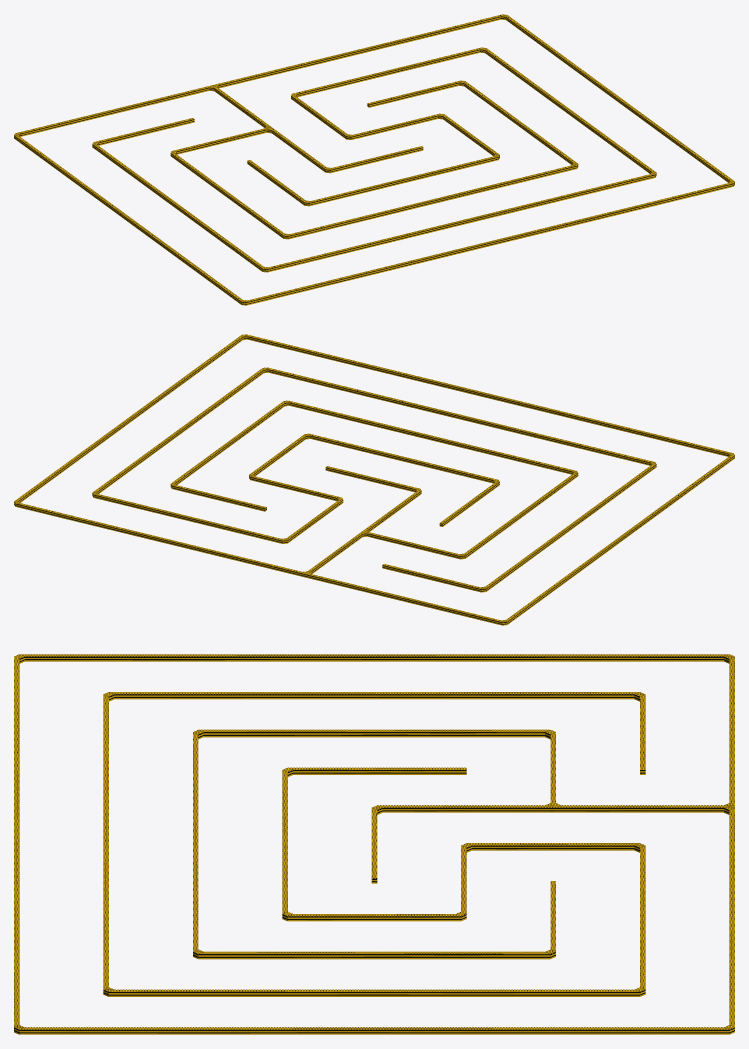
Rendered from Circle Track L.fbx.
3 views of the same model, one above another, from view 1: azimuth 30°, elevation 25°; view 2: azimuth 150°, elevation 25°; view 3: azimuth 270°, elevation 25° (orthographic). The views are drawn at different scales.
Parts seen in each view (by area): view 1: Circle_Track_L; view 2: Circle_Track_L; view 3: Circle_Track_L.
Boxes of the visible parts, x1,y1,x2,y2 form: Circle_Track_L: [14, 14, 734, 305]; Circle_Track_L: [14, 334, 734, 625]; Circle_Track_L: [14, 654, 734, 1034].
Bounding box in the file's own units: 15900 × 100 × 12900.
